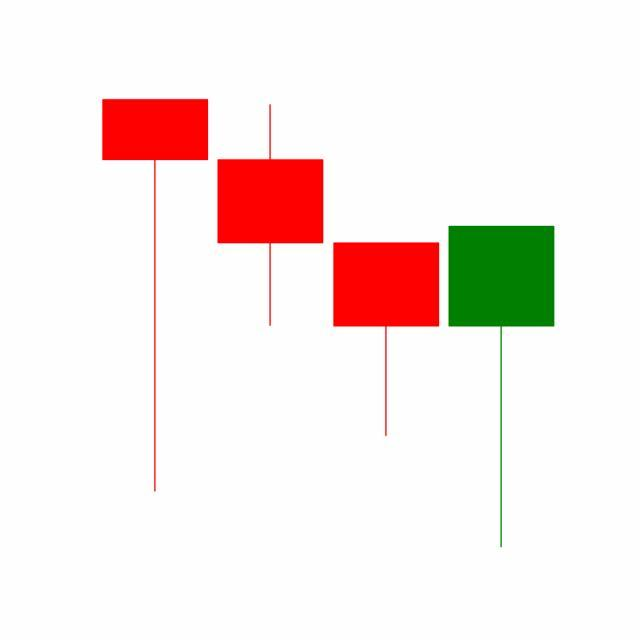Hammer: (329, 241, 445, 439)
